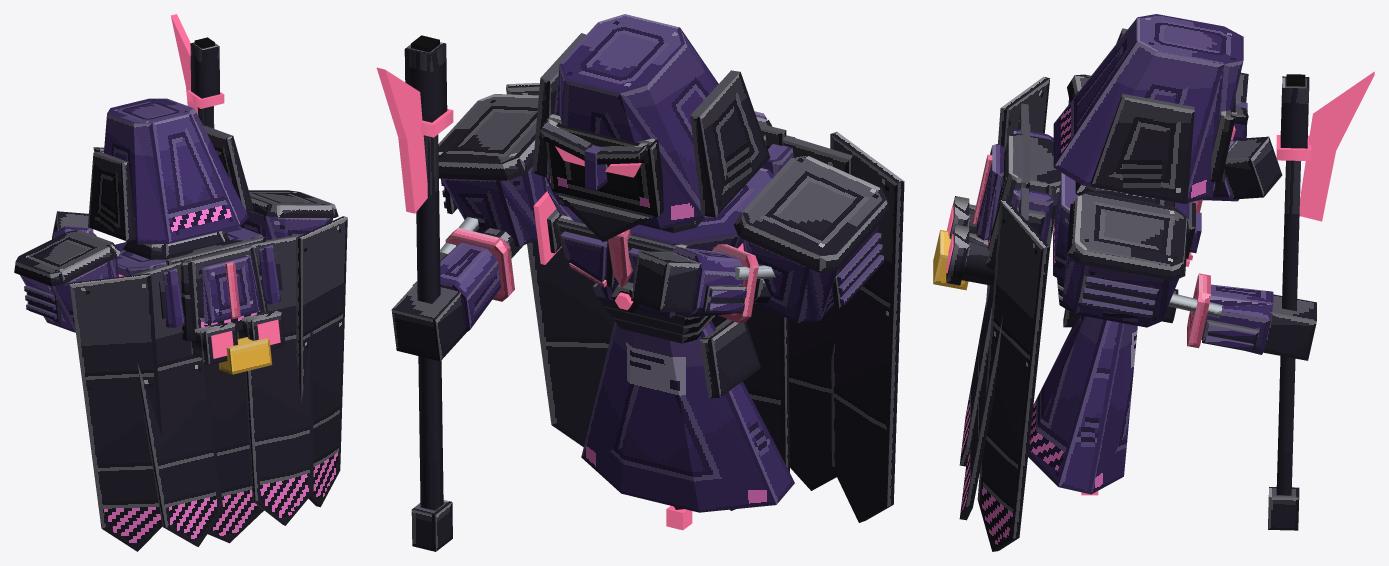
File: bda-nightshade.glb
3 renders of one model, left to right at view 1: azimuth 30°, elevation 25°; view 2: azimuth 150°, elevation 25°; view 3: azimuth 270°, elevation 25°, orthographic. The views are drawn at different scales.
Bounding box in the file's own units: 1.74 × 2.28 × 1.83.
Materials: 83 (81 with a texture image).
